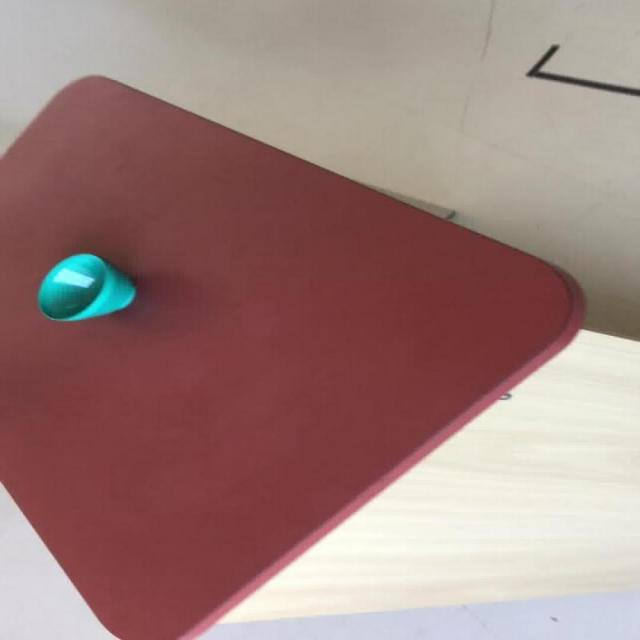Bowl: (1, 73, 586, 638), (36, 253, 136, 321)
